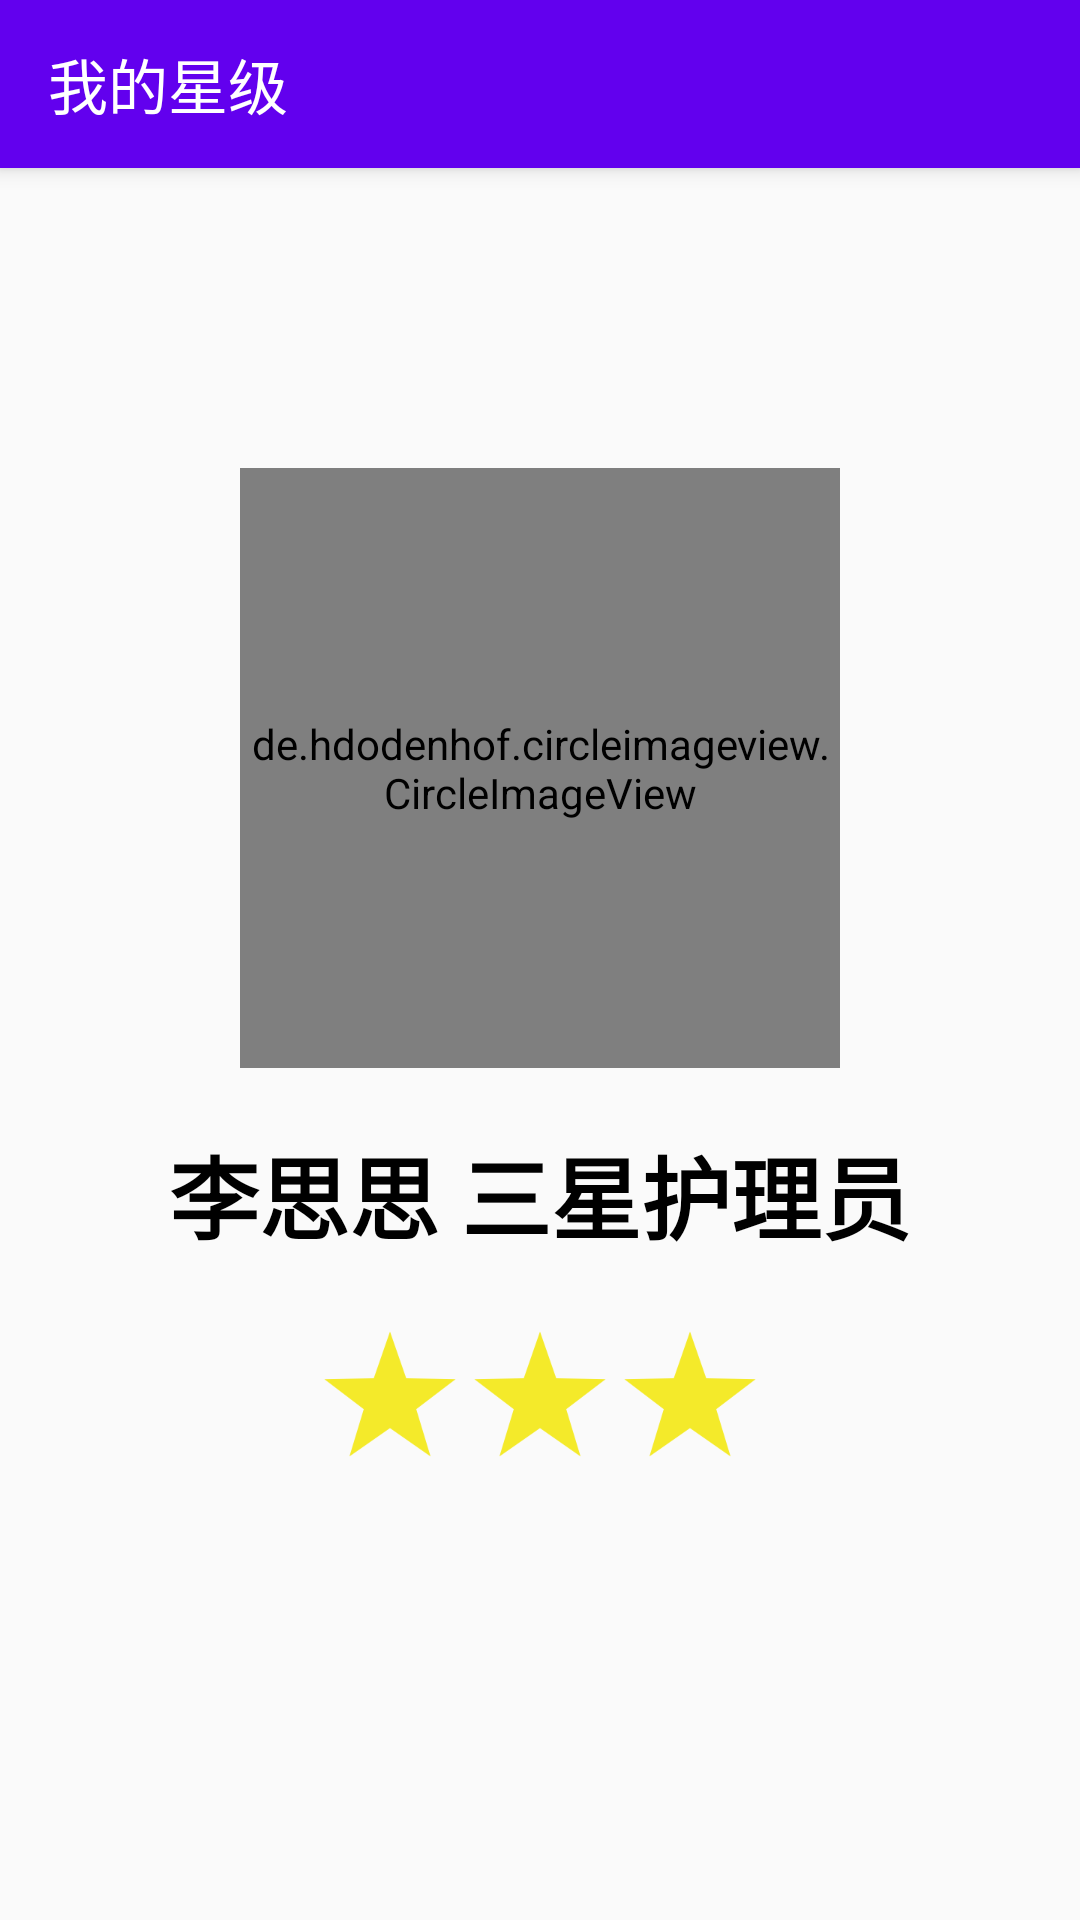

Locate icon controls on the screen. Image size 1080w x 1920h, boxes as (x1, y1, x2, y2).
star: (324, 1332, 456, 1456), (474, 1332, 606, 1456), (624, 1332, 756, 1456)
